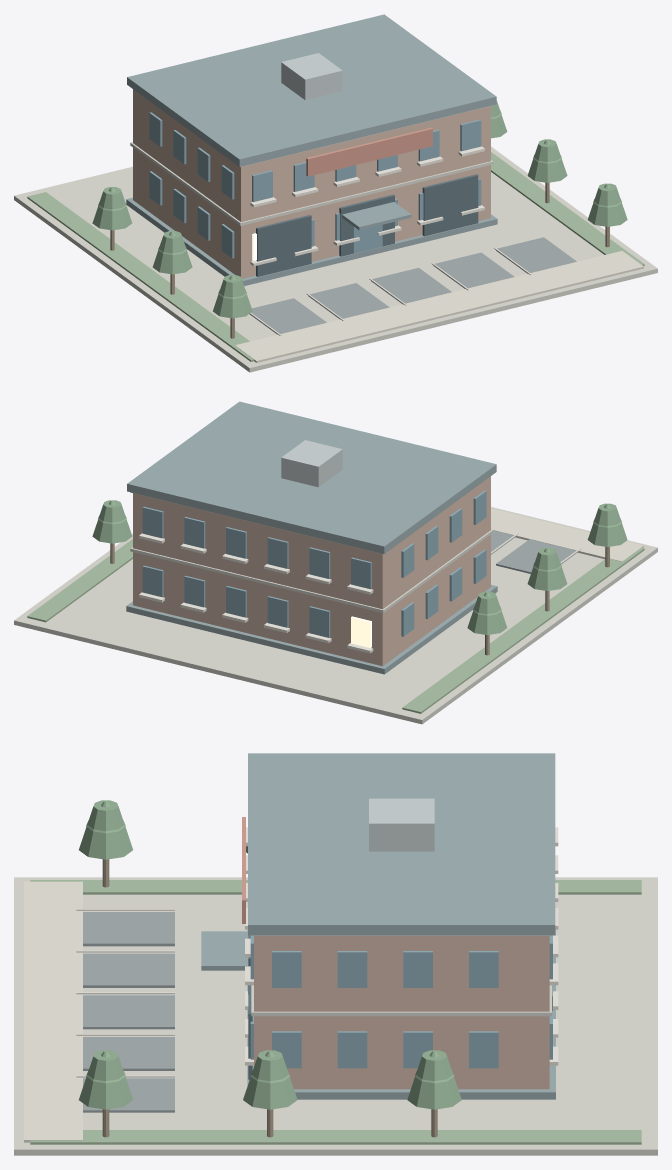
File: remaster_fire.glb
3 renders of one model, top to bottom at view 1: azimuth 30°, elevation 25°; view 2: azimuth 150°, elevation 25°; view 3: azimuth 270°, elevation 25°, orthographic. The views are drawn at different scales.
Visible parts, largest first — view 1: remaster_fire roof, remaster_fire stone, remaster_fire brick, remaster_fire cream, remaster_fire asphalt, remaster_fire glass, remaster_fire green, remaster_fire leaf, remaster_fire dark, remaster_fire red, remaster_fire metal, remaster_fire white (+1 smaller); view 2: remaster_fire roof, remaster_fire stone, remaster_fire brick, remaster_fire glass, remaster_fire green, remaster_fire leaf, remaster_fire cream, remaster_fire metal, remaster_fire white, remaster_fire asphalt, remaster_fire warm; view 3: remaster_fire stone, remaster_fire roof, remaster_fire brick, remaster_fire cream, remaster_fire asphalt, remaster_fire green, remaster_fire glass, remaster_fire leaf, remaster_fire metal, remaster_fire white, remaster_fire bark.
Boxes of the visible parts, <box> form: remaster_fire roof: <box>126,14,497,285</box>; remaster_fire stone: <box>14,105,657,372</box>; remaster_fire brick: <box>133,89,490,278</box>; remaster_fire cream: <box>235,251,643,362</box>; remaster_fire asphalt: <box>249,237,576,334</box>; remaster_fire glass: <box>149,112,481,258</box>; remaster_fire green: <box>27,152,644,361</box>; remaster_fire leaf: <box>92,100,627,318</box>; remaster_fire dark: <box>256,174,478,276</box>; remaster_fire red: <box>306,127,432,176</box>; remaster_fire metal: <box>281,53,342,100</box>; remaster_fire white: <box>250,146,531,336</box>; remaster_fire roof: <box>126,401,497,674</box>; remaster_fire stone: <box>14,492,657,724</box>; remaster_fire brick: <box>133,476,490,666</box>; remaster_fire glass: <box>142,490,486,637</box>; remaster_fire green: <box>27,539,644,713</box>; remaster_fire leaf: <box>92,500,627,634</box>; remaster_fire cream: <box>491,508,643,561</box>; remaster_fire metal: <box>281,440,342,487</box>; remaster_fire white: <box>139,532,581,653</box>; remaster_fire asphalt: <box>491,530,577,573</box>; remaster_fire warm: <box>351,616,371,647</box>; remaster_fire stone: <box>14,877,657,1155</box>; remaster_fire roof: <box>201,753,555,1099</box>; remaster_fire brick: <box>254,936,549,1089</box>; remaster_fire cream: <box>24,881,82,1142</box>; remaster_fire asphalt: <box>83,912,174,1112</box>; remaster_fire green: <box>30,880,641,1144</box>; remaster_fire glass: <box>248,935,552,1068</box>; remaster_fire leaf: <box>79,800,461,1109</box>; remaster_fire metal: <box>369,798,434,851</box>; remaster_fire white: <box>76,827,558,1077</box>; remaster_fire bark: <box>102,859,437,1137</box>.
Bounding box in the file's own units: 19.65 × 7 × 19.6.
